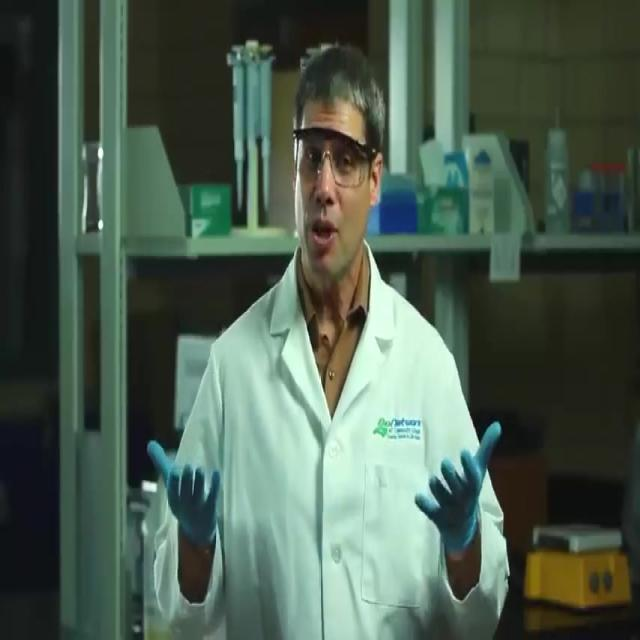googles: (292, 122, 364, 192)
labcoat: (155, 237, 512, 640)
